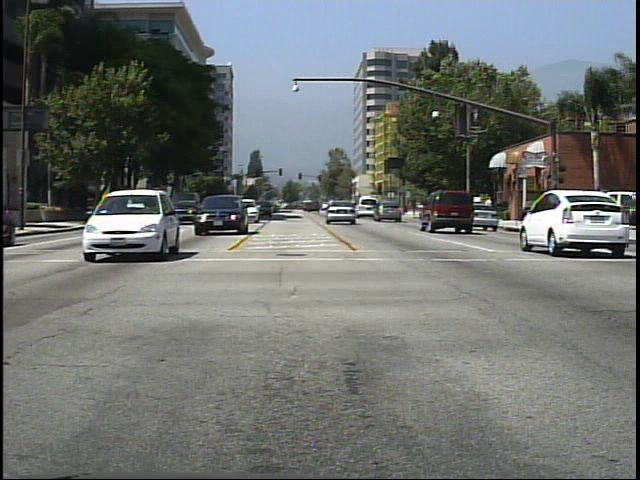person: (440, 192, 459, 226), (480, 192, 499, 225)
